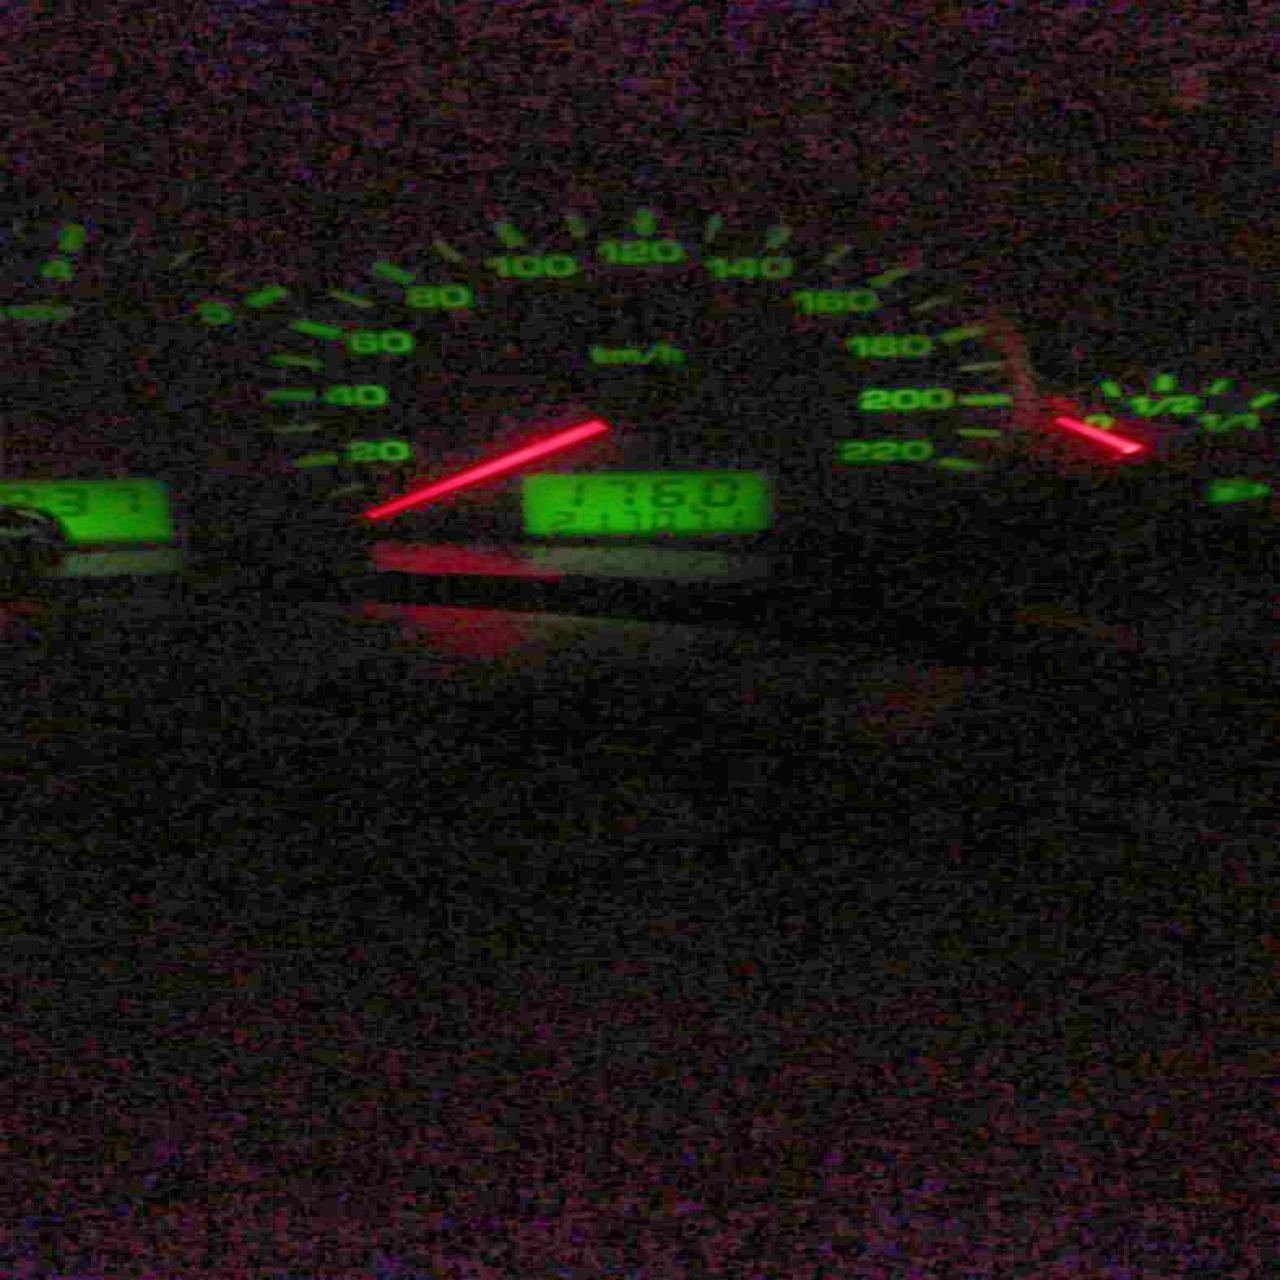0: (699, 476, 740, 505), (647, 509, 675, 530)
1: (724, 508, 745, 530), (568, 481, 585, 506), (593, 511, 610, 532)
2: (545, 510, 577, 531)
6: (647, 478, 687, 508)
7: (599, 477, 639, 505), (686, 509, 712, 531), (619, 509, 641, 531)
odometer: (518, 469, 772, 536)
